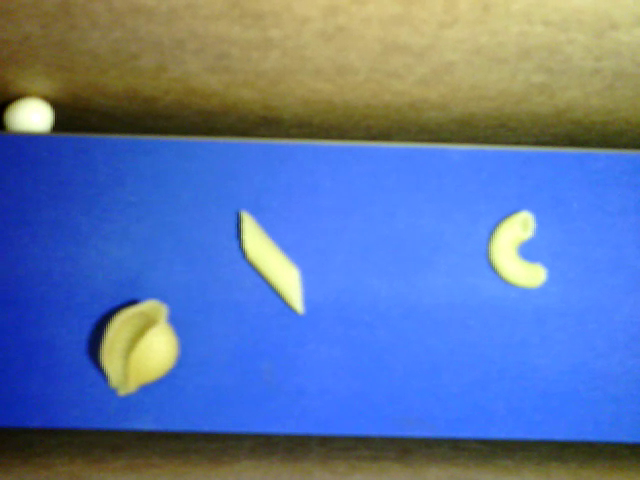elbow: (488, 209, 547, 287)
penne: (239, 210, 304, 314)
shell: (97, 300, 179, 396)
